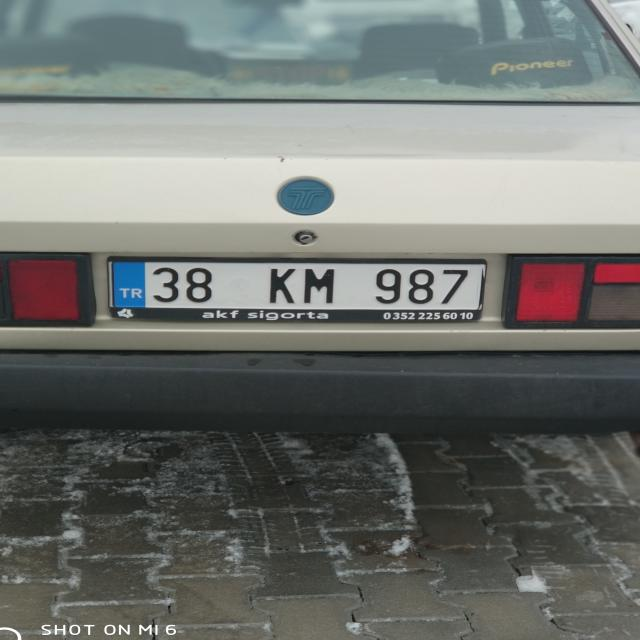plate: (109, 260, 485, 310)
